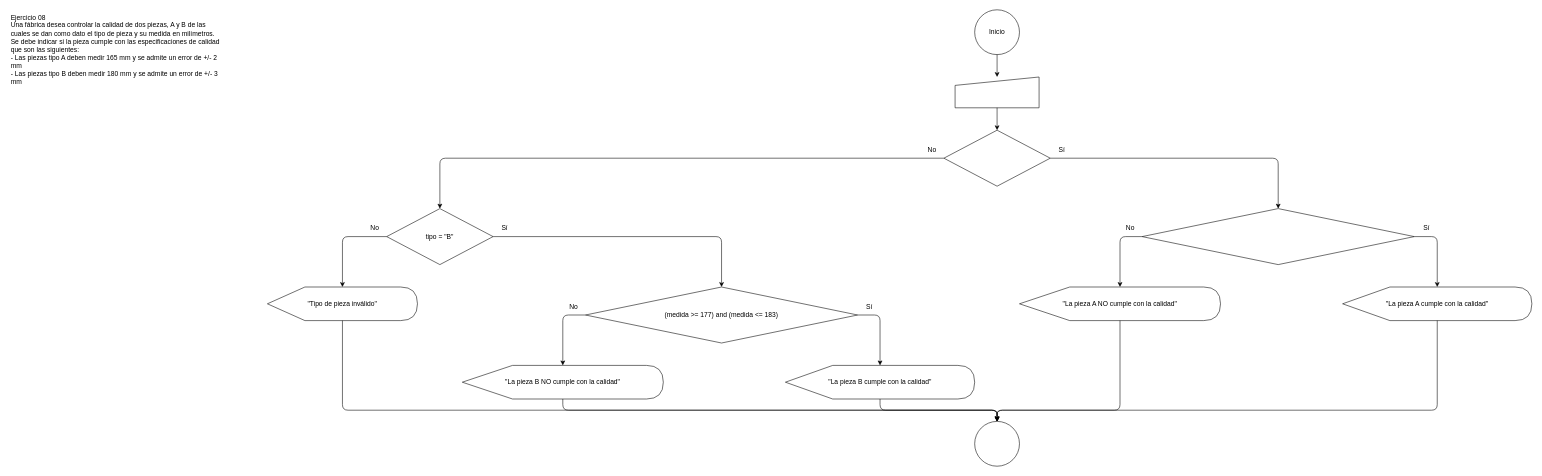
Some shapes in this 1542 by 476 pixel diagram are drawn without their labels. The box of each missing label's shape, as (x1, y1, x2, y2) in pixels:
(medida >= 163) and (medida <= 167): (1142, 208, 1414, 265)
Fin: (974, 421, 1019, 466)
tipo = "A": (943, 130, 1050, 186)
tipo,medida: (955, 76, 1039, 108)
